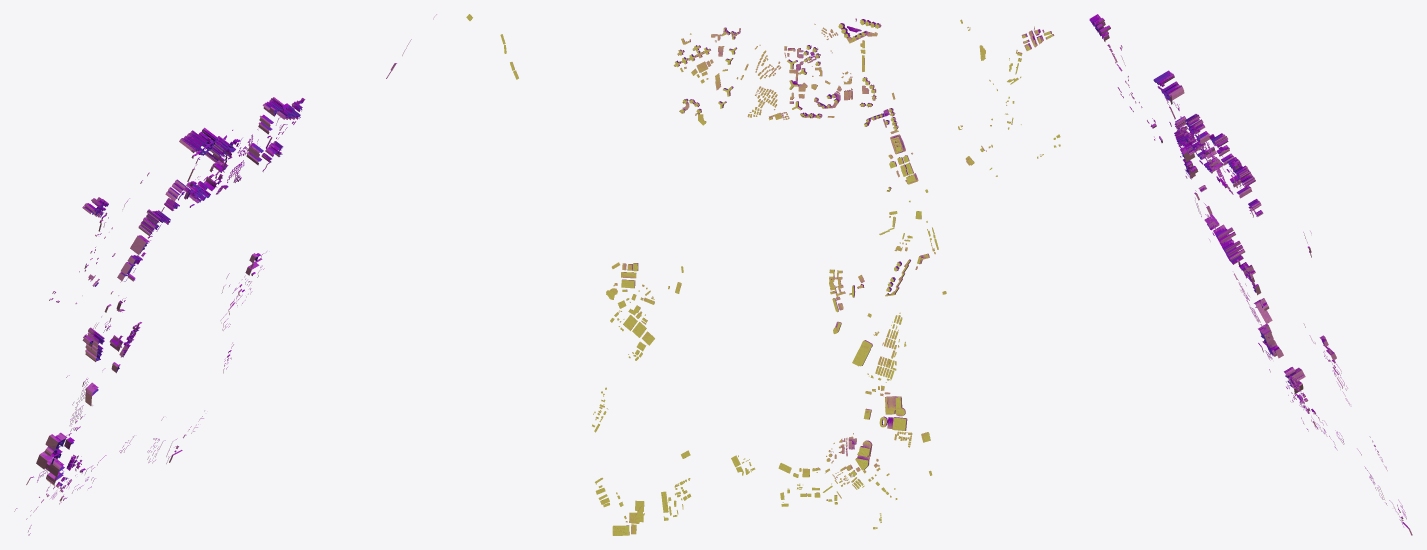
3 views of the same model, side by side, from view 1: azimuth 30°, elevation 25°; view 2: azimuth 150°, elevation 25°; view 3: azimuth 270°, elevation 25° (orthographic). The views are drawn at different scales.
Parts seen in each view (by area): view 1: geometry_0; view 2: geometry_0; view 3: geometry_0.
Part boxes in pixels (x1=…): geometry_0: x1=14, y1=14, x2=436, y2=535; geometry_0: x1=466, y1=14, x2=1060, y2=535; geometry_0: x1=1089, y1=14, x2=1412, y2=535.
Bounding box in the file's own units: 3889 × 3409 × 2439.
